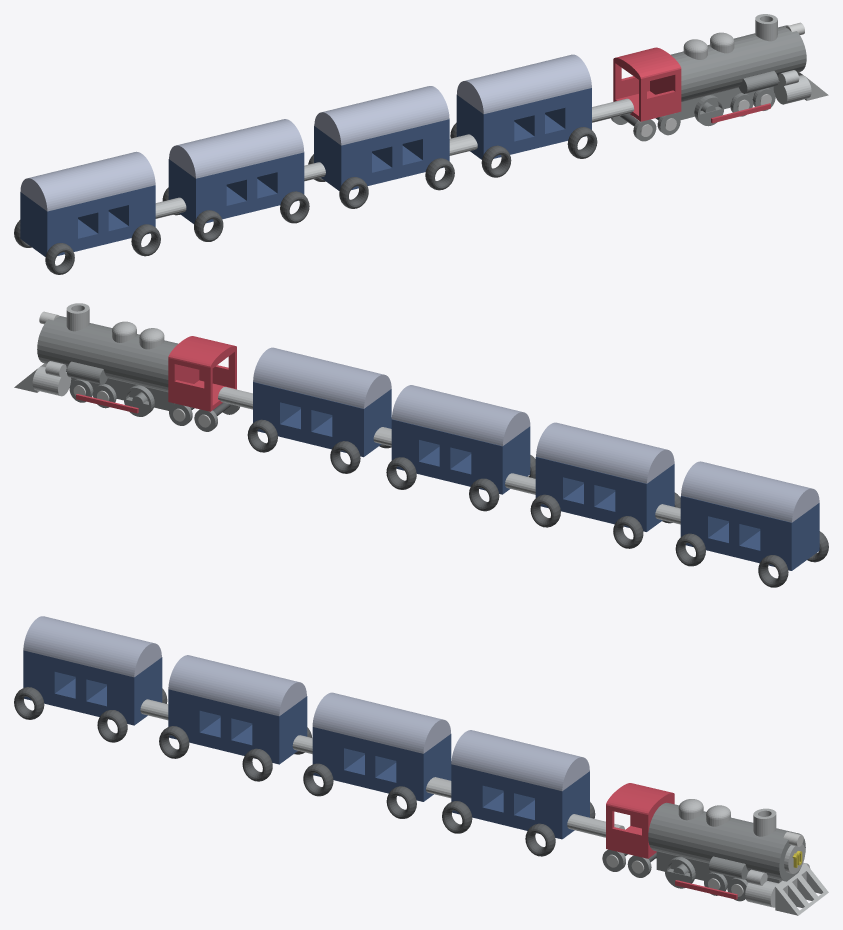
Rendered from Train.glb.
3 views of the same model, one above another, from view 1: azimuth 30°, elevation 25°; view 2: azimuth 150°, elevation 25°; view 3: azimuth 330°, elevation 25° (orthographic). The views are drawn at different scales.
Visible parts, largest first — view 1: Mesh_Mesh_head_geo.001_lambert2SG.001; view 2: Mesh_Mesh_head_geo.001_lambert2SG.001; view 3: Mesh_Mesh_head_geo.001_lambert2SG.001.
Part boxes in pixels (bbox=[...]): Mesh_Mesh_head_geo.001_lambert2SG.001: bbox=[14, 14, 828, 274]; Mesh_Mesh_head_geo.001_lambert2SG.001: bbox=[14, 303, 828, 587]; Mesh_Mesh_head_geo.001_lambert2SG.001: bbox=[14, 616, 828, 915].
Size of the model in its own units: 378 by 40 by 46.
